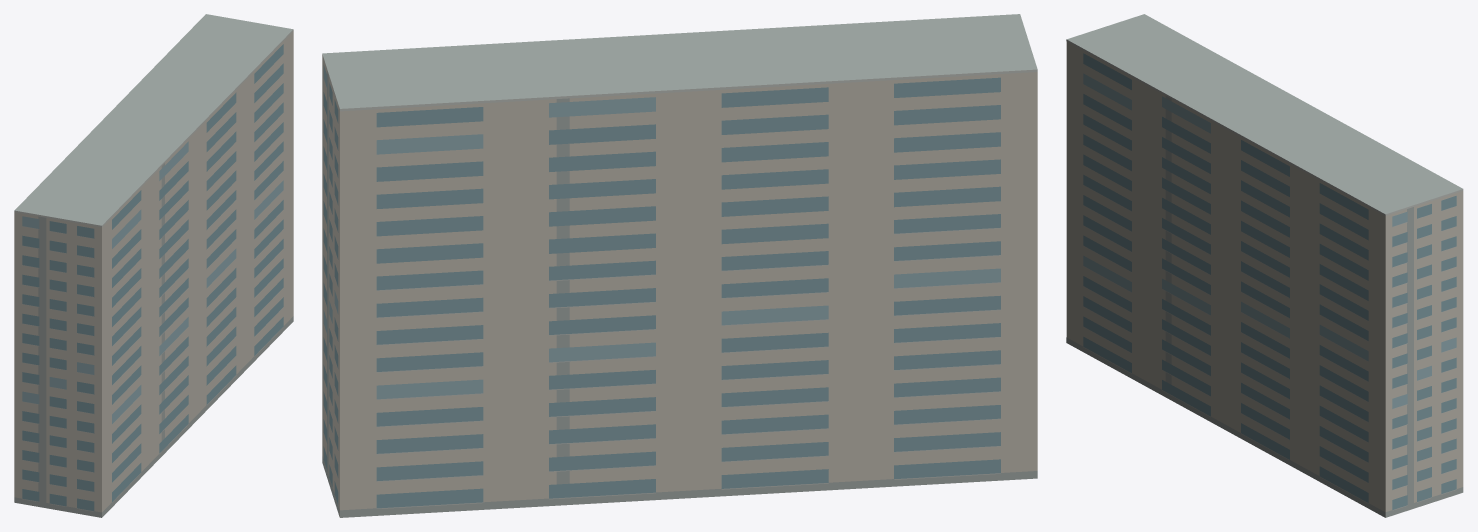
File: residential-f6c856c3-2479-479e-96c4-162af3c88aec.glb
3 renders of one model, left to right at view 1: azimuth 30°, elevation 25°; view 2: azimuth 150°, elevation 25°; view 3: azimuth 270°, elevation 25°, orthographic. The views are drawn at different scales.
Parts seen in each view (by area): view 1: residential-f6c856c3-2479-479e-96c4-162af3c88aec.tmp; view 2: residential-f6c856c3-2479-479e-96c4-162af3c88aec.tmp; view 3: residential-f6c856c3-2479-479e-96c4-162af3c88aec.tmp.
Boxes of the visible parts, x1,y1,x2,y2 form: residential-f6c856c3-2479-479e-96c4-162af3c88aec.tmp: (14, 14, 293, 517); residential-f6c856c3-2479-479e-96c4-162af3c88aec.tmp: (322, 14, 1037, 517); residential-f6c856c3-2479-479e-96c4-162af3c88aec.tmp: (1066, 14, 1463, 517).
Size of the model in its own units: 58.03 by 41 by 48.59.
